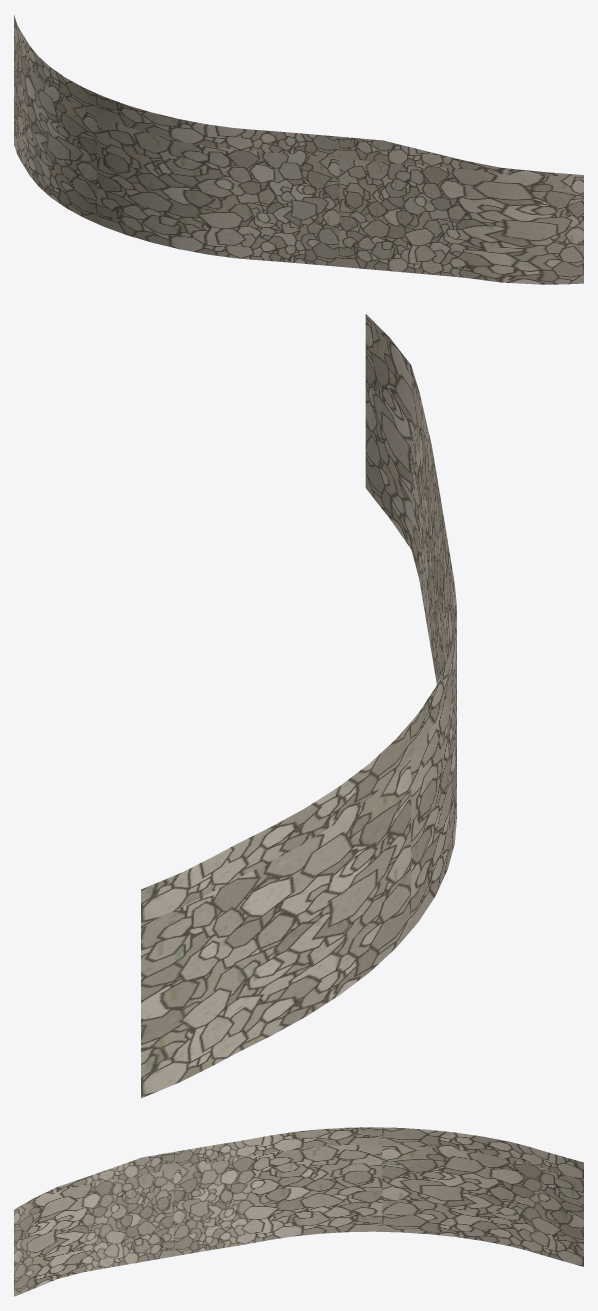
The model's file is monaco-arrimo.glb.
3 views of the same model, one above another, from view 1: azimuth 30°, elevation 25°; view 2: azimuth 150°, elevation 25°; view 3: azimuth 270°, elevation 25° (orthographic). The views are drawn at different scales.
Parts seen in each view (by area): view 1: monaco-arrimo; view 2: monaco-arrimo; view 3: monaco-arrimo.
Boxes of the visible parts, x1,y1,x2,y2 form: monaco-arrimo: (14,15,583,284); monaco-arrimo: (141,314,456,1098); monaco-arrimo: (14,1127,583,1296).
Size of the model in its own units: 20.96 by 14.01 by 49.44.
Materials: 1 (1 with a texture image).
